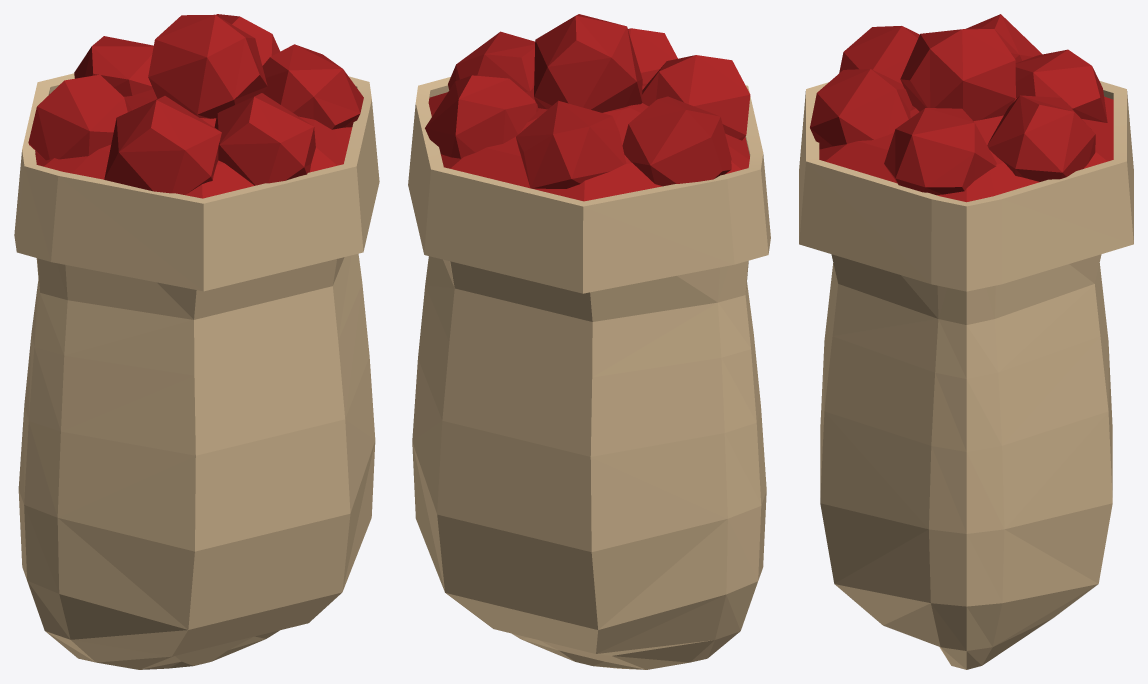
File: SM_sack_fruits.fbx
3 renders of one model, left to right at view 1: azimuth 30°, elevation 25°; view 2: azimuth 150°, elevation 25°; view 3: azimuth 270°, elevation 25°, orthographic. The views are drawn at different scales.
Parts seen in each view (by area): view 1: Box111; view 2: Box111; view 3: Box111.
Part boxes in pixels (x1,y1,x2,y2): Box111: (14, 14, 379, 669); Box111: (408, 14, 770, 669); Box111: (799, 14, 1133, 669).
Size of the model in its own units: 27.41 by 46.95 by 22.8.
